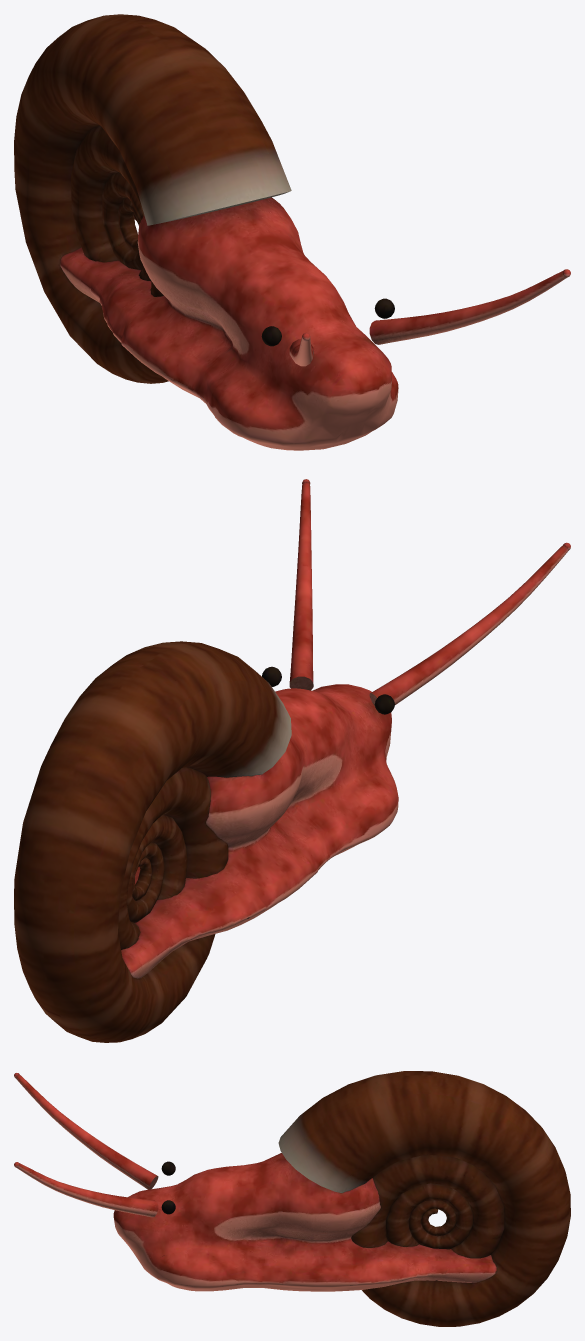
Rendered from snail-ramshorn.glb.
The picture shows the model from 3 angles, top to bottom: view 1: azimuth 30°, elevation 25°; view 2: azimuth 150°, elevation 25°; view 3: azimuth 270°, elevation 25°; orthographic projection. The views are drawn at different scales.
Visible parts, largest first — view 1: Shell, Body, TentL, TentR; view 2: Shell, Body, TentR, TentL; view 3: Shell, Body, TentR, TentL.
Boxes of the visible parts, x1,y1,x2,y2 form: Shell: (14,14,291,383); Body: (60,197,398,450); TentL: (369,269,570,344); TentR: (289,332,313,366); Shell: (14,641,291,1042); Body: (121,666,398,978); TentR: (369,542,570,706); TentL: (289,479,313,690); Shell: (278,1071,570,1326); Body: (113,1153,496,1291); TentR: (14,1073,158,1189); TentL: (14,1162,158,1217).
Size of the model in its own units: 0.0632 by 0.0798 by 0.162.
1 material, 1 textured.
